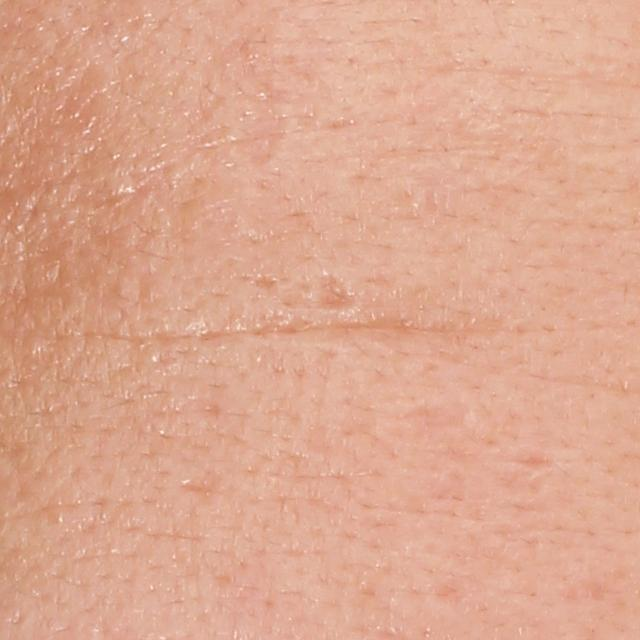atrophic_scar: (210, 44, 287, 168), (311, 270, 370, 318), (185, 467, 228, 506)
